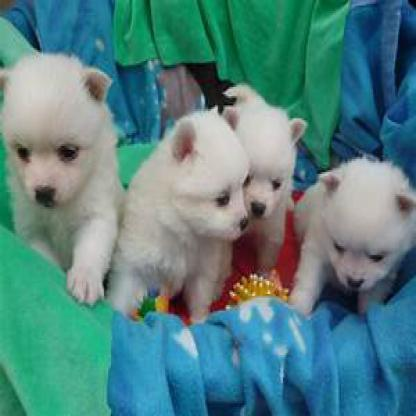dog: (0, 54, 118, 307), (110, 105, 250, 309), (291, 157, 415, 318), (222, 83, 309, 283)
